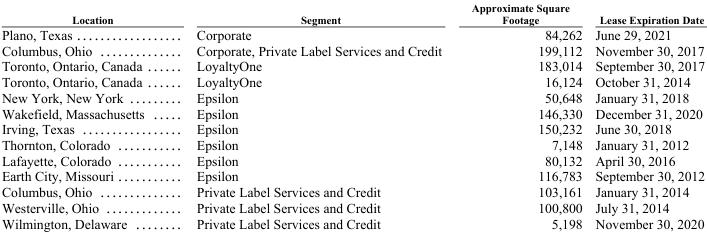table: (0, 0, 704, 230)
table column: (169, 0, 455, 230), (0, 0, 169, 230), (455, 0, 588, 230), (588, 0, 704, 230)
table column header: (0, 0, 704, 26)
table row: (0, 0, 704, 26), (0, 26, 704, 42), (0, 57, 704, 73), (0, 73, 704, 89), (0, 89, 704, 105), (0, 120, 704, 136), (0, 136, 704, 152), (0, 167, 704, 183), (0, 183, 704, 199), (0, 199, 704, 215), (0, 42, 704, 57), (0, 105, 704, 120), (0, 152, 704, 167), (0, 215, 704, 230)
